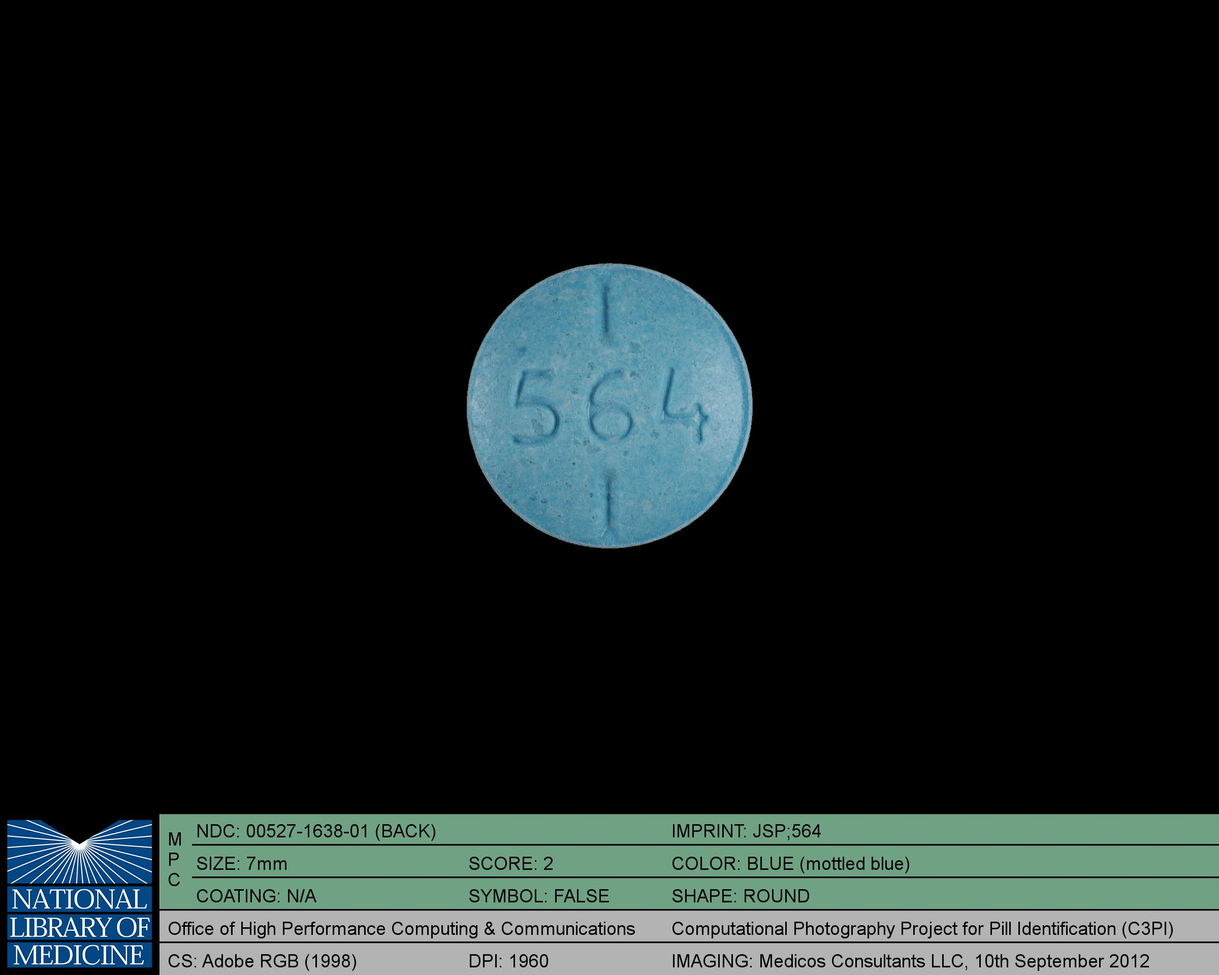Pill: (455, 251, 765, 555)
